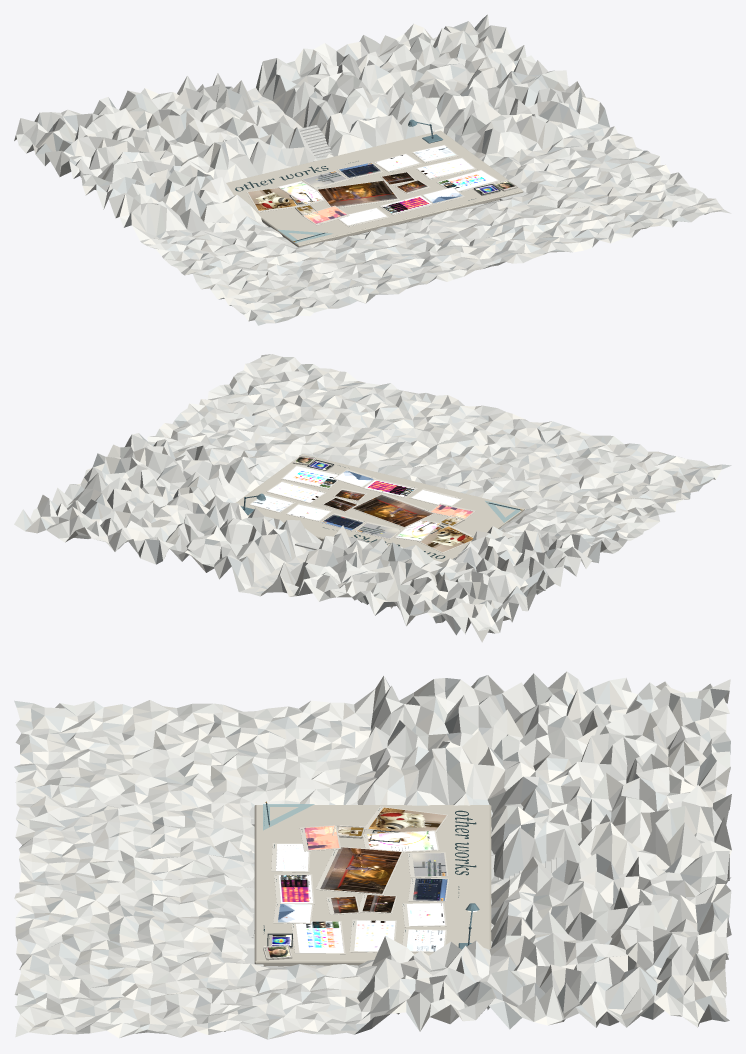
File: otherworks.glb
The picture shows the model from 3 angles, top to bottom: view 1: azimuth 30°, elevation 25°; view 2: azimuth 150°, elevation 25°; view 3: azimuth 270°, elevation 25°; orthographic projection. The views are drawn at different scales.
Visible parts, largest first — view 1: P01 Continuous white geological field, P02 permanent drafting sheet, PRINT_spell-main, P02 chamfered drafting board, PRINT_camera, PRINT_geometry, PRINT_geometry-flow, PRINT_print-smell; view 2: P01 Continuous white geological field, P02 permanent drafting sheet, PRINT_spell-main, PRINT_camera, PRINT_geometry, PRINT_geometry-flow, PRINT_print-smell; view 3: P01 Continuous white geological field, P02 permanent drafting sheet, PRINT_spell-main, PRINT_geometry, PRINT_camera, PRINT_print-smell, P02 chamfered drafting board, PRINT_geometry-flow, PRINT_depth, PRINT_domain, PRINT_metabolic, PRINT_calendar (+4 smaller).
Boxes of the visible parts, x1,y1,x2,y2 form: P01 Continuous white geological field: (14, 14, 731, 325); P02 permanent drafting sheet: (226, 130, 521, 244); PRINT_spell-main: (318, 180, 397, 206); P02 chamfered drafting board: (261, 131, 523, 247); PRINT_camera: (248, 188, 296, 210); PRINT_geometry: (438, 170, 497, 190); PRINT_geometry-flow: (417, 158, 474, 178); PRINT_print-smell: (279, 181, 323, 203); P01 Continuous white geological field: (14, 354, 731, 642); P02 permanent drafting sheet: (236, 454, 523, 562); PRINT_spell-main: (353, 494, 432, 526); PRINT_camera: (419, 526, 472, 552); PRINT_geometry: (283, 466, 337, 488); PRINT_geometry-flow: (268, 482, 323, 502); PRINT_print-smell: (396, 520, 439, 540); P01 Continuous white geological field: (14, 671, 731, 1039); P02 permanent drafting sheet: (256, 805, 489, 960); PRINT_spell-main: (320, 847, 401, 893); PRINT_geometry: (296, 921, 343, 952); PRINT_camera: (368, 807, 446, 831); PRINT_print-smell: (367, 831, 437, 851); P02 chamfered drafting board: (254, 805, 491, 966); PRINT_geometry-flow: (354, 920, 395, 951); PRINT_depth: (278, 875, 312, 903); PRINT_domain: (276, 844, 308, 871); PRINT_metabolic: (406, 903, 445, 925); PRINT_calendar: (407, 929, 445, 951).
Size of the model in its own units: 92.98 by 7.71 by 84.98.
Materials: 37 (19 with a texture image).
